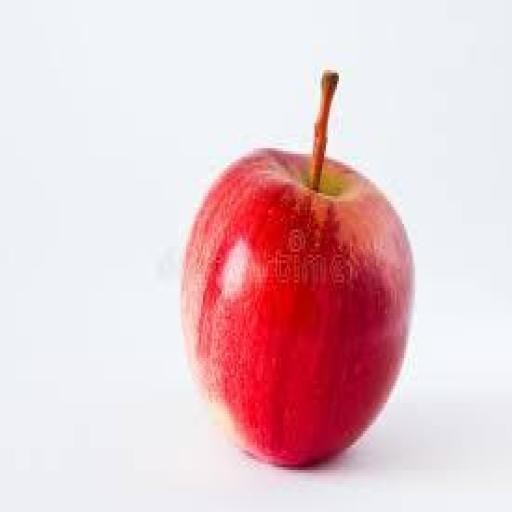apple: (183, 73, 413, 467)
